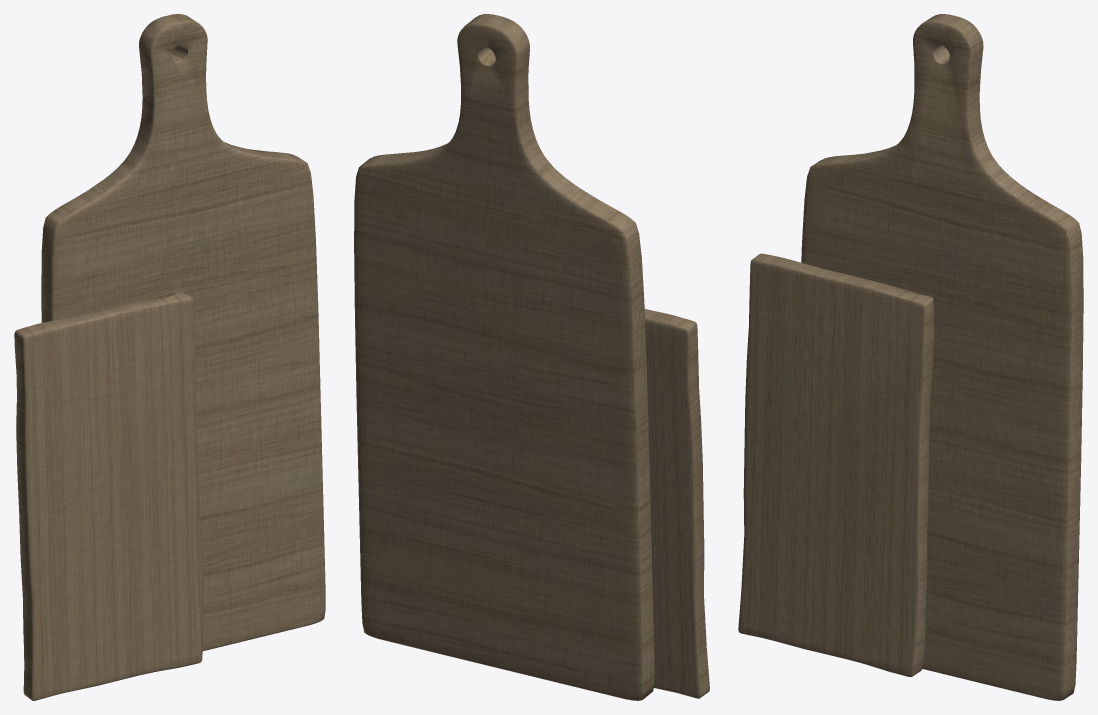
The model's file is acce3.glb.
The picture shows the model from 3 angles, left to right: view 1: azimuth 30°, elevation 25°; view 2: azimuth 150°, elevation 25°; view 3: azimuth 330°, elevation 25°; orthographic projection. The views are drawn at different scales.
Visible parts, largest first — view 1: doska_02, doska_01; view 2: doska_02, doska_01; view 3: doska_02, doska_01.
Part boxes in pixels (bbox=[...]): doska_02: bbox=[41, 14, 325, 650]; doska_01: bbox=[14, 291, 203, 700]; doska_02: bbox=[354, 14, 654, 700]; doska_01: bbox=[644, 309, 709, 698]; doska_02: bbox=[801, 14, 1083, 700]; doska_01: bbox=[738, 253, 933, 676].
Bounding box in the file's own units: 0.2686 × 0.5195 × 0.0594.
Materials: 1 (1 with a texture image).
